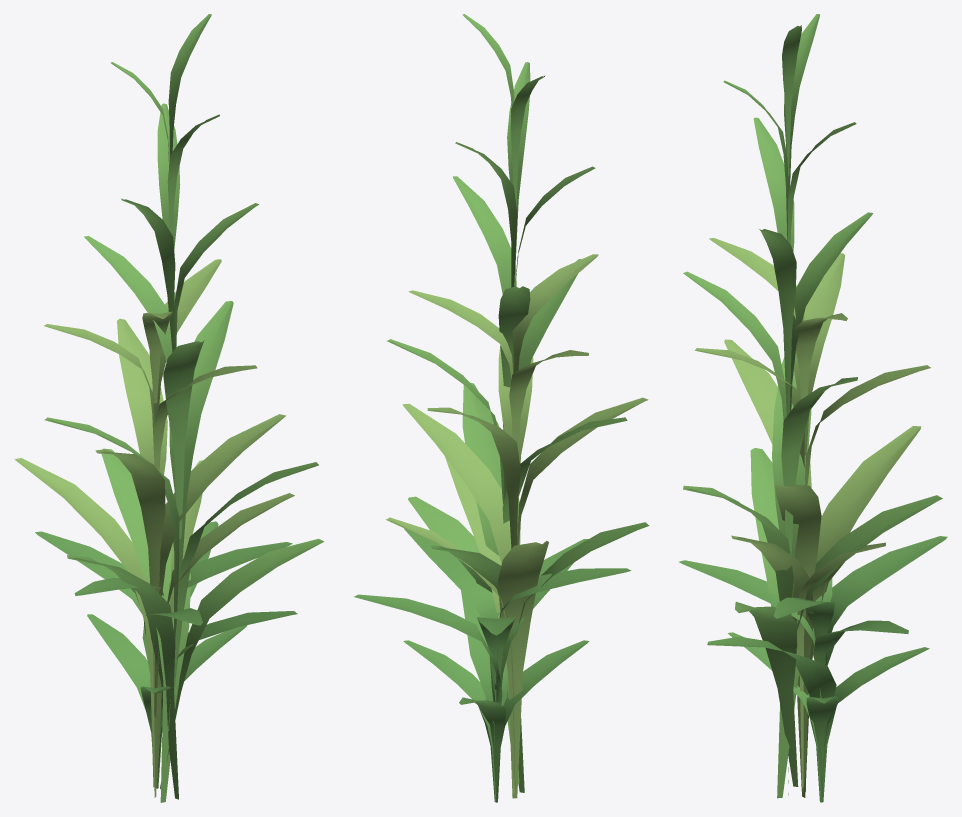
File: grass.glb
3 renders of one model, left to right at view 1: azimuth 30°, elevation 25°; view 2: azimuth 150°, elevation 25°; view 3: azimuth 270°, elevation 25°, orthographic. The views are drawn at different scales.
Visible parts, largest first — view 1: Plane, Plane.001, Plane.002; view 2: Plane.001, Plane, Plane.002; view 3: Plane, Plane.001, Plane.002.
Boxes of the visible parts, box(x1,y1,x2,y2) form: Plane: box(44, 14, 324, 802); Plane.001: box(14, 259, 294, 797); Plane.002: box(35, 521, 297, 788); Plane.001: box(386, 254, 648, 798); Plane: box(387, 14, 649, 792); Plane.002: box(354, 528, 631, 802); Plane: box(683, 14, 942, 798); Plane.001: box(695, 238, 930, 797); Plane.002: box(679, 536, 947, 802).
Size of the model in its own units: 1.61 by 4.76 by 1.46.
